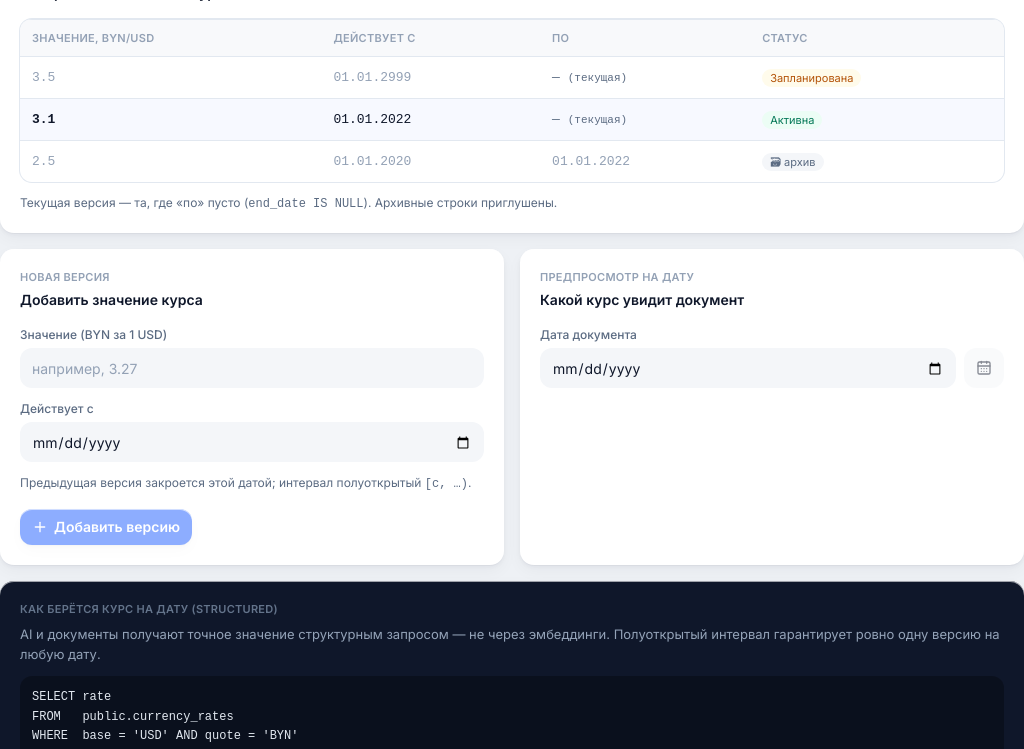
Test: SpravRates › успешное добавление версии зовёт addRateVersion, дописывает строку и пишет успех
(page scrolled)
Type "3.27" into the number field with placeholder "например, 3.27" at (252, 368), box [32,358,472,378]
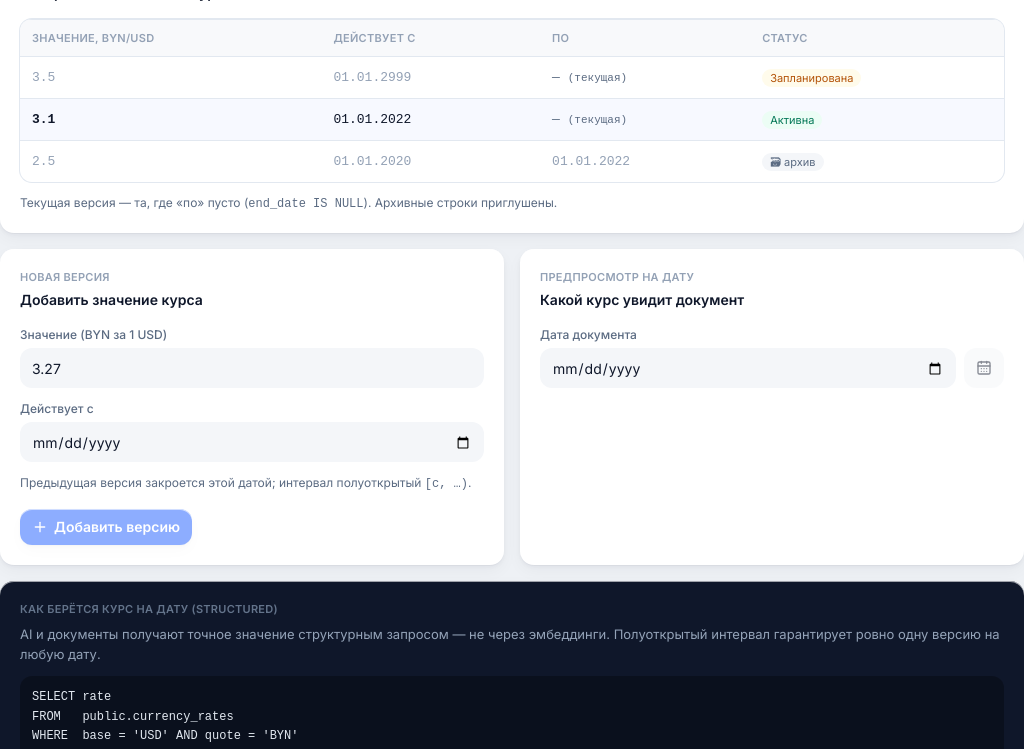
Type "2027-01-01" into the date field below "Значение (BYN за 1" at (252, 442), box [32,432,472,454]
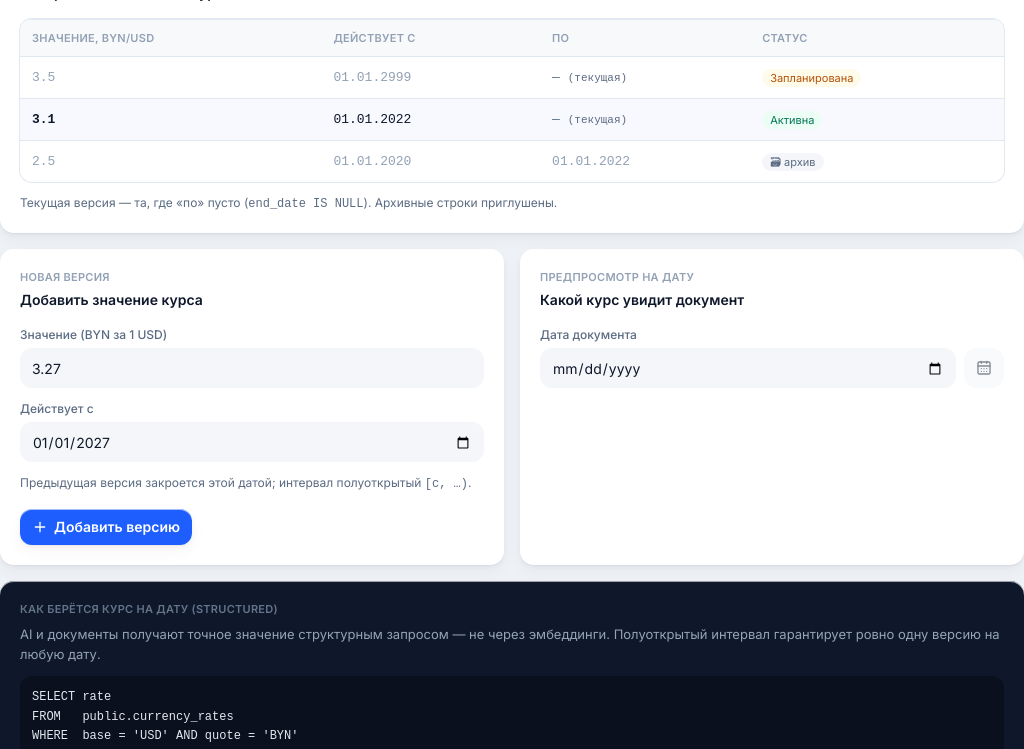
Click the button "Добавить версию" at (106, 526), box [20,508,192,544]
(page scrolled)
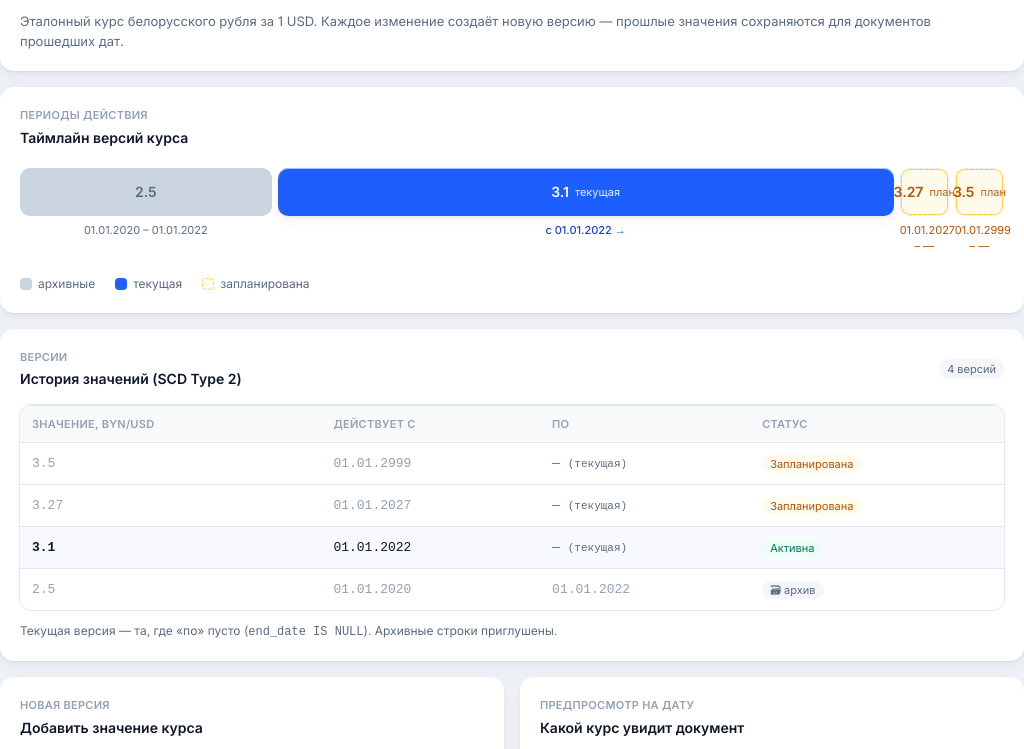
Expected: the text "4 версий" is shown, [939,358,1004,379]
